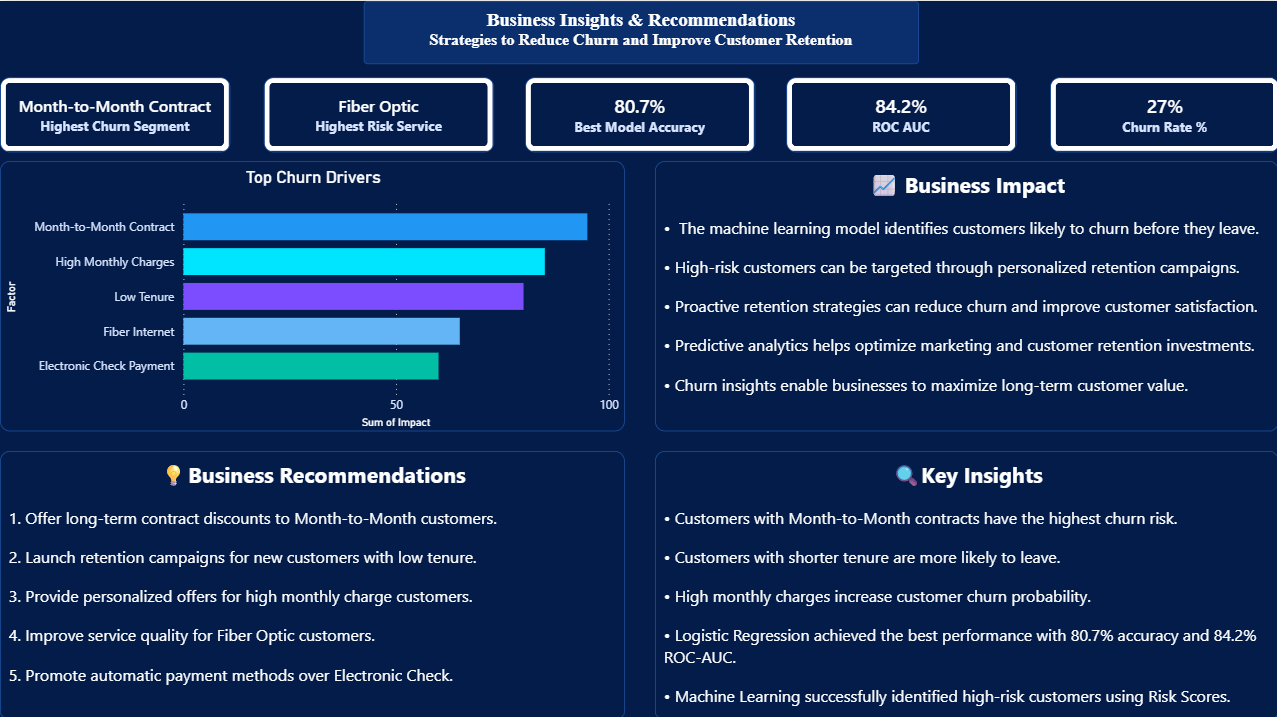

Layout of this report page (visuals, bound fields, positions):
{"tool":"powerbi","page":{"name":"Business Insights","canvas":[1280,720],"ordinal":2},"visuals":[{"type":"cardVisual","fields":{"Data":["telecom_churn_cleaned.Highest Churn Segment"]},"box":[0,76.7,230,75],"z":0},{"type":"cardVisual","fields":{"Data":["telecom_churn_cleaned.Highest Risk Service"]},"box":[263.3,76.7,230,75],"z":1000},{"type":"cardVisual","fields":{"Data":["telecom_churn_cleaned.Best Model Accuracy"]},"box":[525,76.7,230,75],"z":2000},{"type":"clusteredBarChart","title":"Top Churn Drivers","fields":{"Category":["Churn Drivers.Factor"],"Y":["Sum(Churn Drivers.Impact)"]},"box":[0,160,625,270],"z":3000},{"type":"textbox","box":[0,450,625,270],"z":4000},{"type":"textbox","box":[655,450,625,270],"z":5000},{"type":"cardVisual","fields":{"Data":["telecom_churn_cleaned.Churn Rate %"]},"box":[1050,76.7,230,75],"z":6000},{"type":"cardVisual","fields":{"Data":["telecom_churn_cleaned.ROC AUC"]},"box":[786.7,76.7,230,75],"z":7000},{"type":"textbox","box":[655,160,625,270],"z":8000},{"type":"textbox","box":[363.3,0,555,63.3],"z":9000}]}

Visuals, with their boxes in screenshot pixels (x1, y1, x2, y2), scaled from the page's 1280x720 canvas onto the 1277x717 screenshot:
cardVisual - telecom_churn_cleaned.Highest Churn Segment: x1=0, y1=76, x2=229, y2=151
cardVisual - telecom_churn_cleaned.Highest Risk Service: x1=263, y1=76, x2=492, y2=151
cardVisual - telecom_churn_cleaned.Best Model Accuracy: x1=524, y1=76, x2=753, y2=151
"Top Churn Drivers" clusteredBarChart: x1=0, y1=159, x2=624, y2=428
textbox: x1=0, y1=448, x2=624, y2=716
textbox: x1=653, y1=448, x2=1276, y2=716
cardVisual - telecom_churn_cleaned.Churn Rate %: x1=1048, y1=76, x2=1276, y2=151
cardVisual - telecom_churn_cleaned.ROC AUC: x1=785, y1=76, x2=1014, y2=151
textbox: x1=653, y1=159, x2=1276, y2=428
textbox: x1=362, y1=0, x2=916, y2=63
